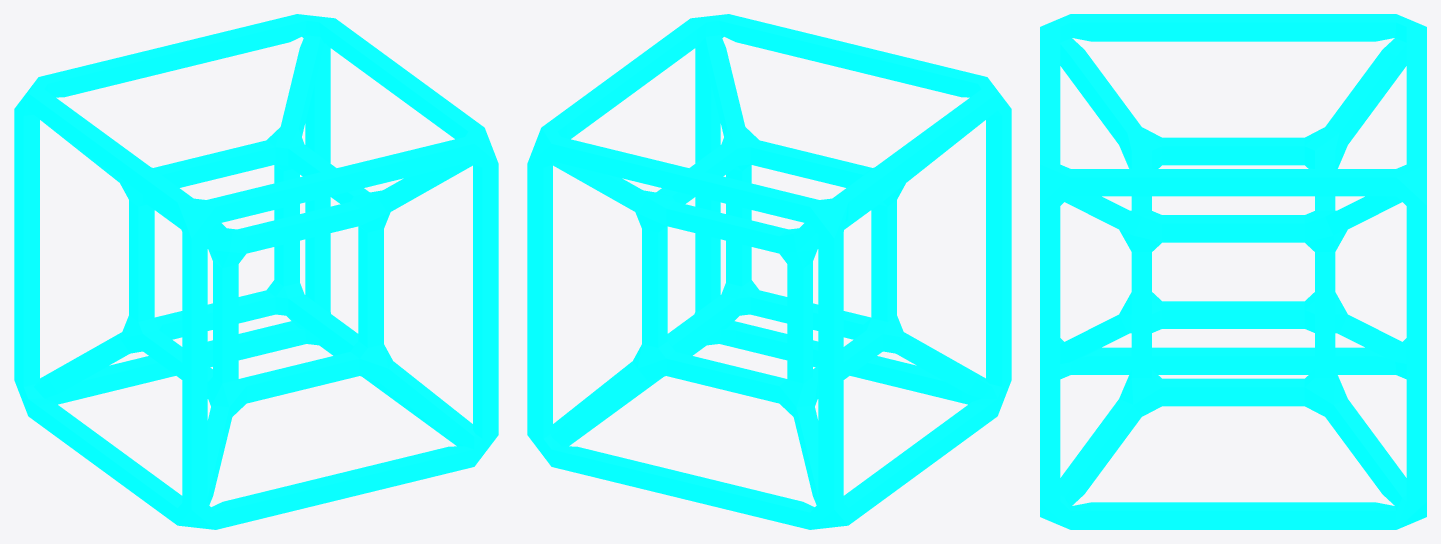
The model's file is IzometricalCube.fbx.
The picture shows the model from 3 angles, left to right: view 1: azimuth 30°, elevation 25°; view 2: azimuth 150°, elevation 25°; view 3: azimuth 270°, elevation 25°; orthographic projection. The views are drawn at different scales.
Parts seen in each view (by area): view 1: Cube.014; view 2: Cube.014; view 3: Cube.014.
Boxes of the visible parts, left/top/right/bottom form: Cube.014: left=14, top=14, right=498, bottom=529; Cube.014: left=527, top=14, right=1011, bottom=529; Cube.014: left=1040, top=14, right=1426, bottom=529.
Size of the model in its own units: 159 by 160 by 159.
